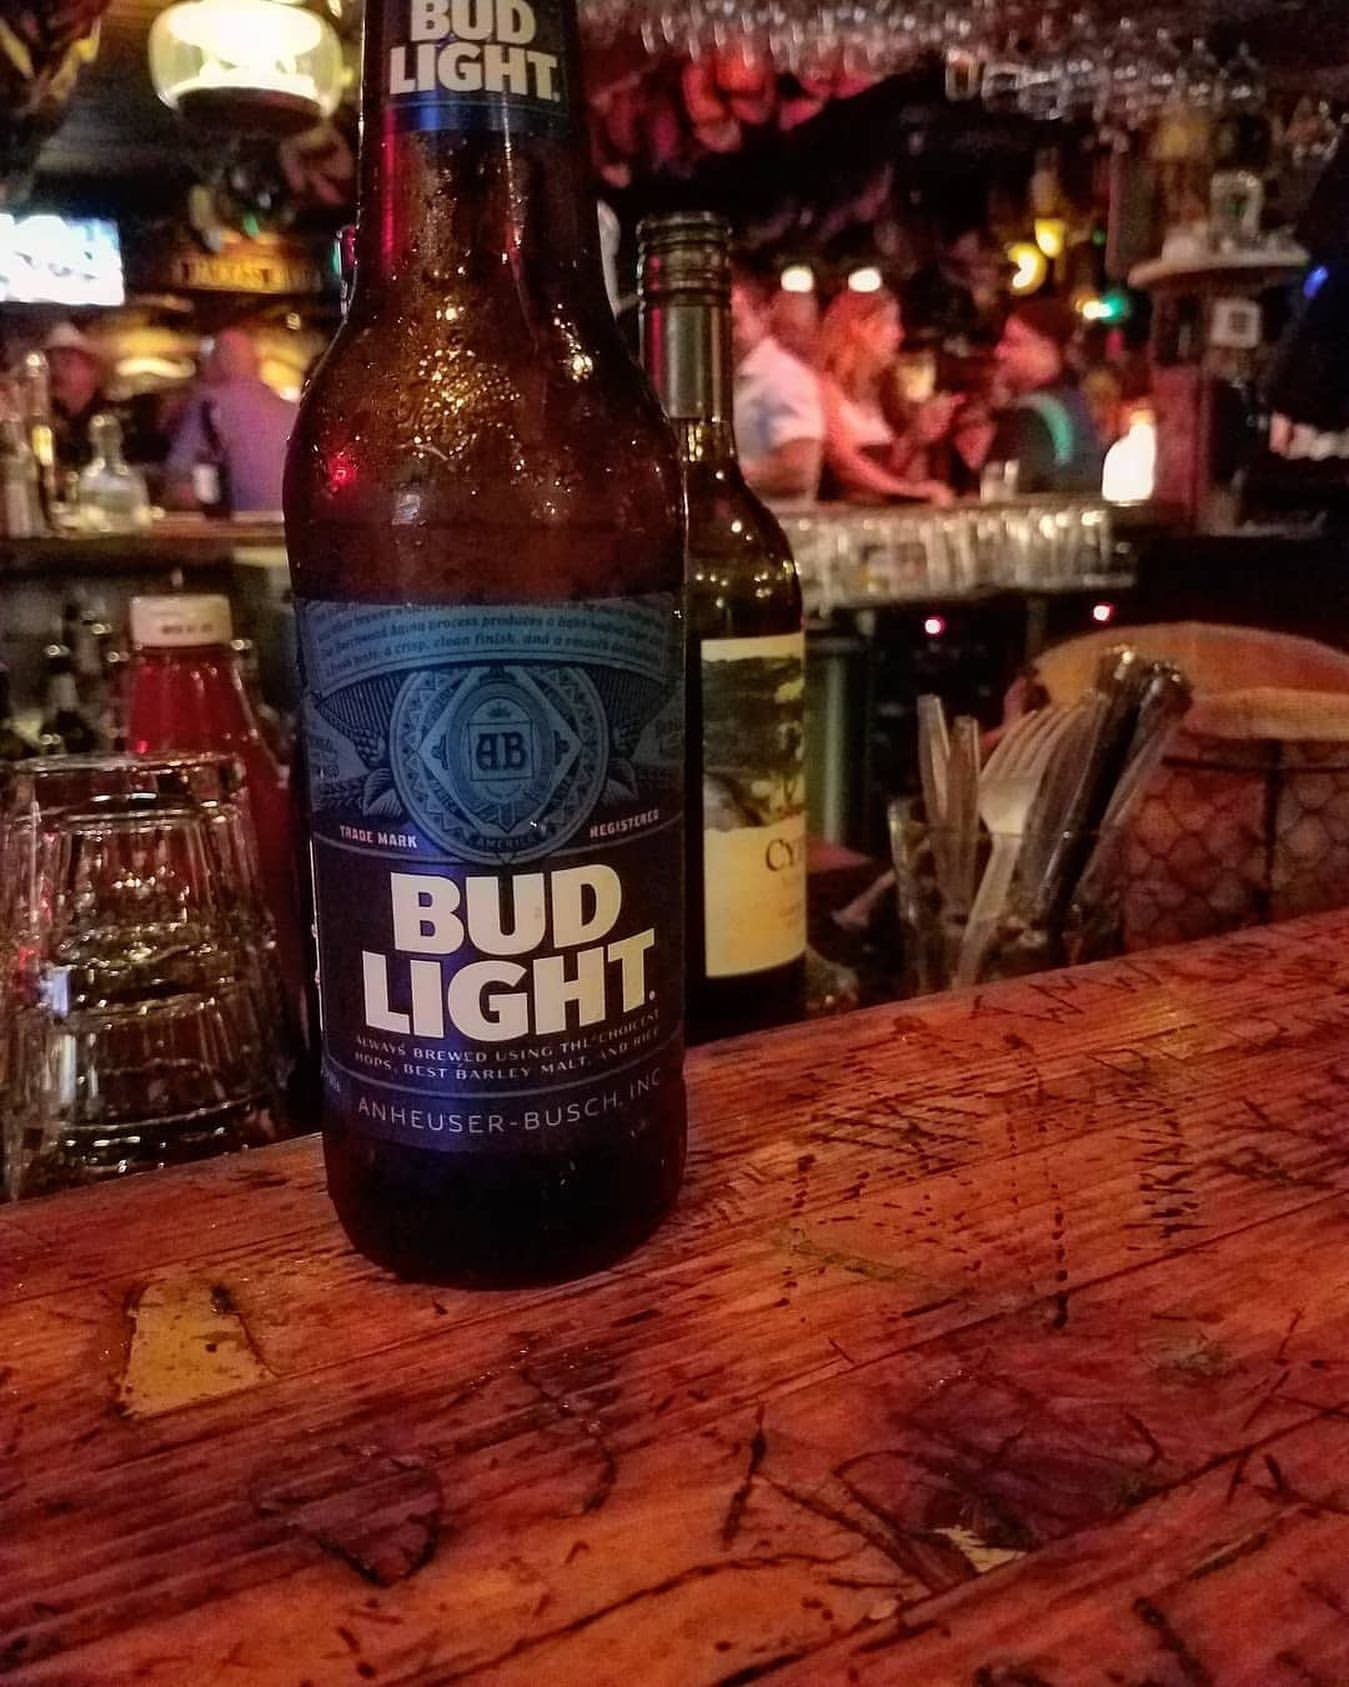beerBottle: (277, 34, 690, 1309)
